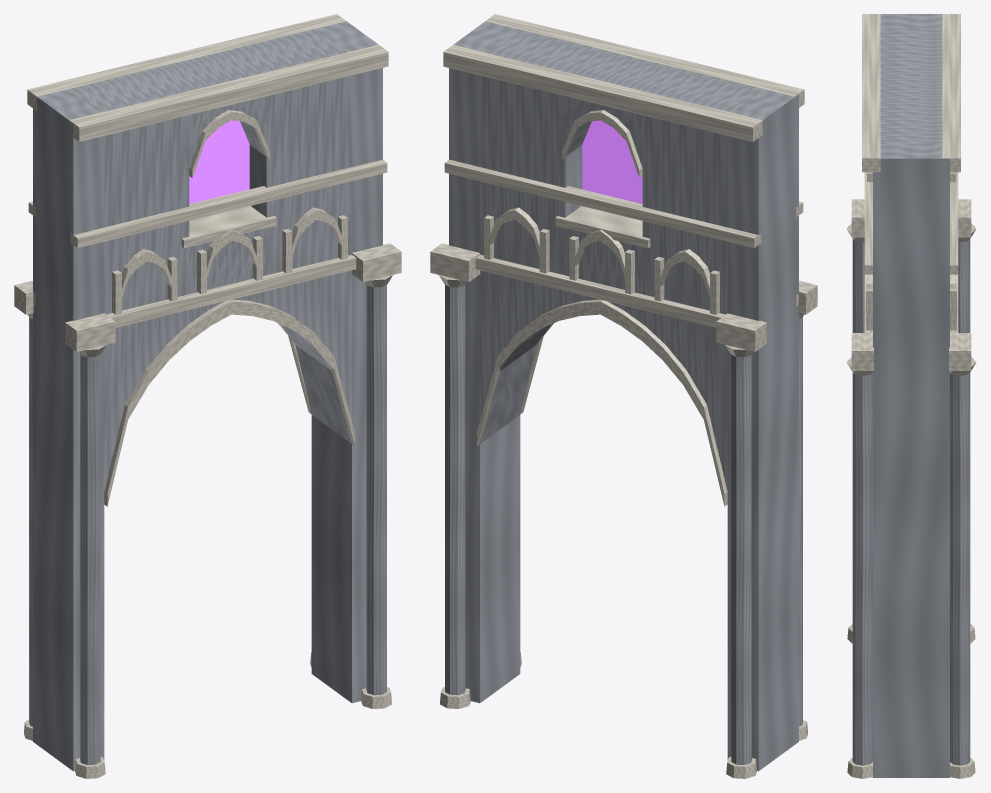
The picture shows the model from 3 angles, left to right: view 1: azimuth 30°, elevation 25°; view 2: azimuth 150°, elevation 25°; view 3: azimuth 270°, elevation 25°; orthographic projection. The views are drawn at different scales.
Parts seen in each view (by area): view 1: nave-bay; view 2: nave-bay; view 3: nave-bay.
Boxes of the visible parts, bbox=[...] form: nave-bay: bbox=[14, 14, 401, 778]; nave-bay: bbox=[430, 14, 817, 778]; nave-bay: bbox=[846, 14, 976, 778].
Size of the model in its own units: 4.2 by 8 by 1.52.
3 materials, 2 textured.
